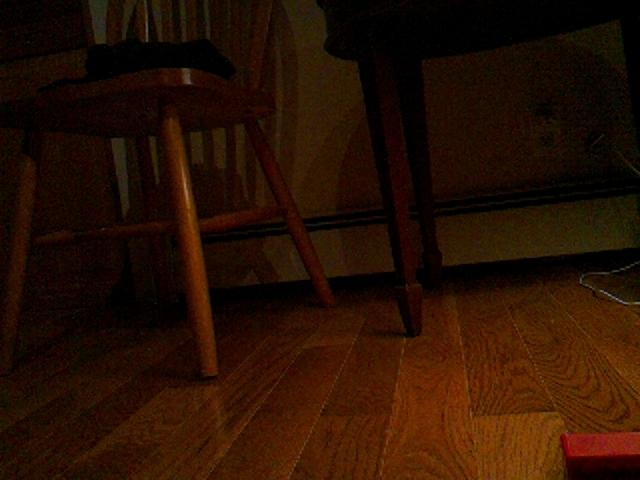red: (559, 428, 640, 480)
